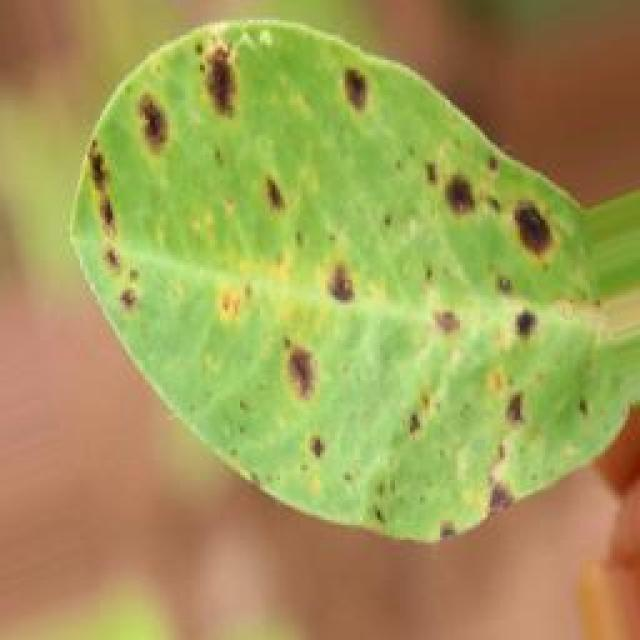Yellowish: (77, 26, 608, 536)
